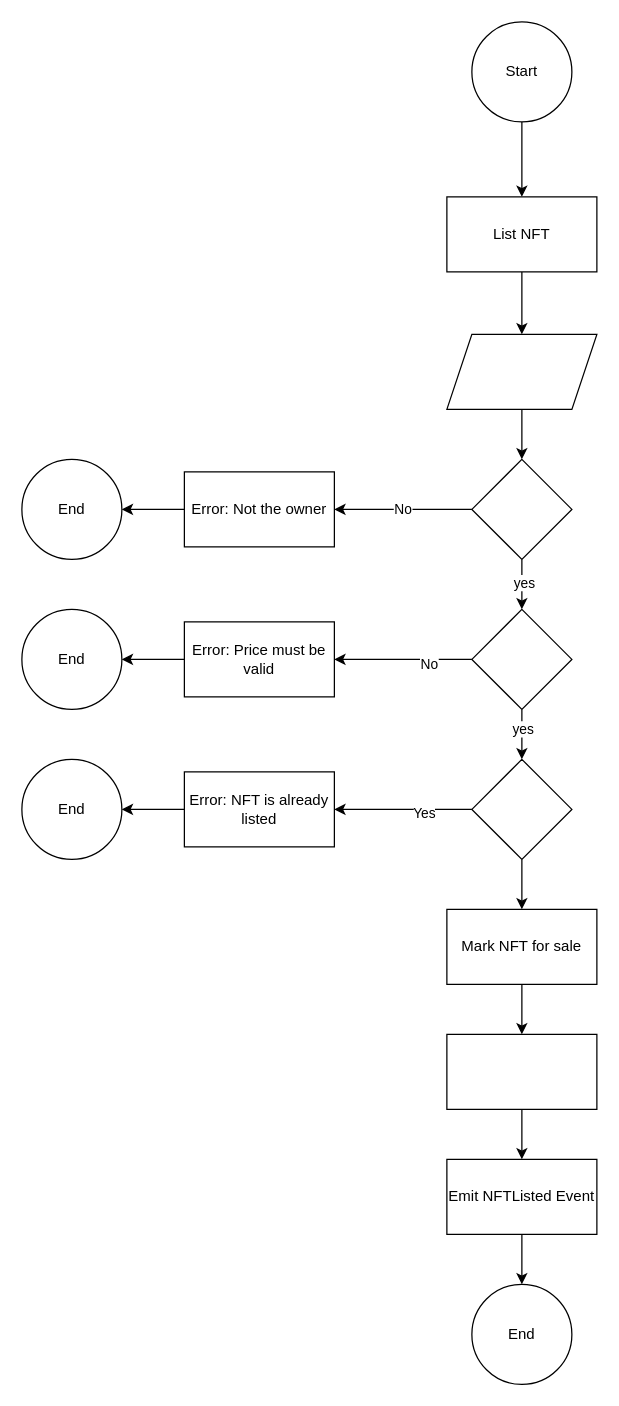
The diagram is 619 pixels wide and 1406 high, and some of its shapes have lost their labels. Each missing label, with the box of its shape:
Is price valid?: (471, 608, 572, 709)
Is the NFT already listed?: (471, 758, 572, 859)
Is user the owner of NFT?: (471, 458, 572, 559)
Store Price of NFT: (446, 1033, 597, 1109)
Token ID & Price: (446, 333, 597, 409)
